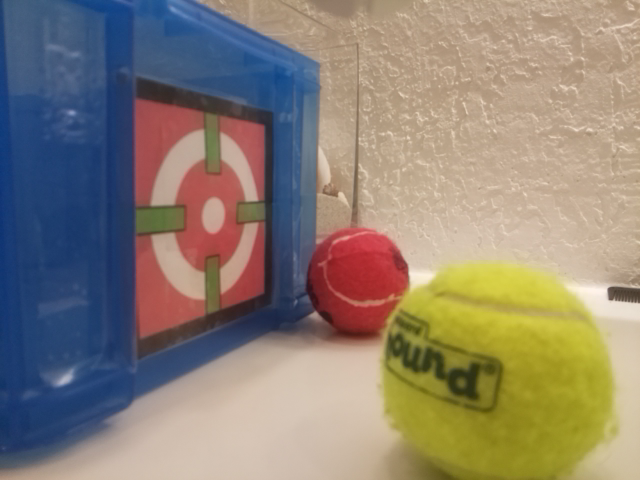drop-bin: (120, 74, 275, 361)
red-ball: (305, 224, 411, 339)
yellow-ball: (380, 257, 613, 479)
